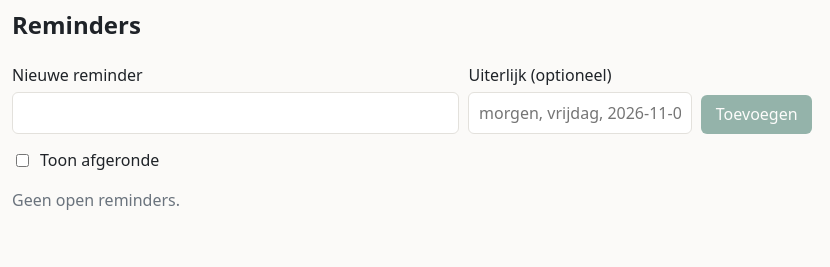
Test case: RemindersPage › shows the server's error
Expected: the text "Geen open reminders." is shown, [12,189,180,211]
Type "X" into the field labelled "Nieuwe reminder" at {"x": 235, "y": 113}, box [12,92,459,134]
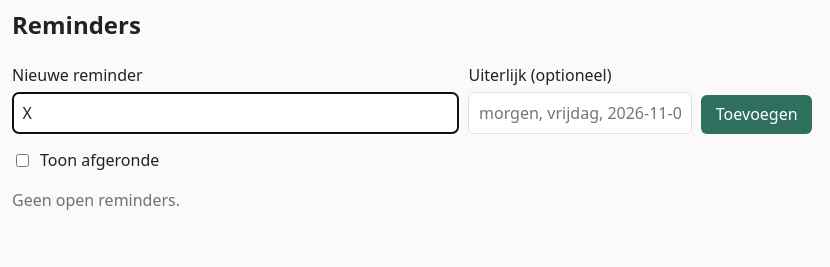
Type "ooit" into the field labelled "Uiterlijk (optioneel)" at {"x": 580, "y": 113}, box [468,92,692,134]
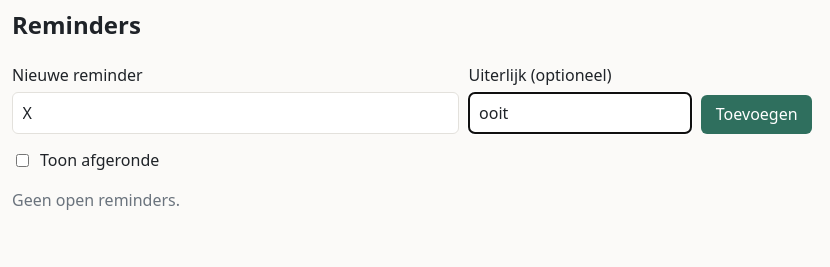
Click the button "Toevoegen" at {"x": 757, "y": 114}, box [702,95,812,134]
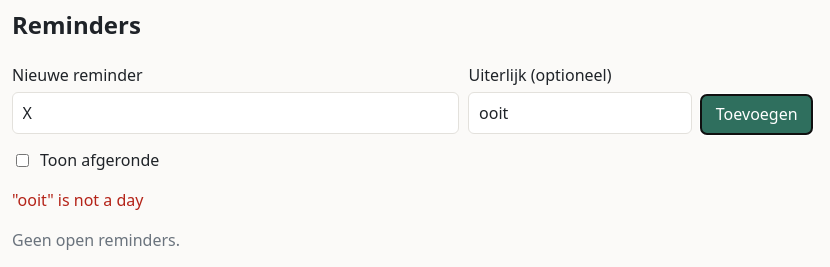
Now the message reads "\"ooit\" is not a day", box [12,189,143,211]
